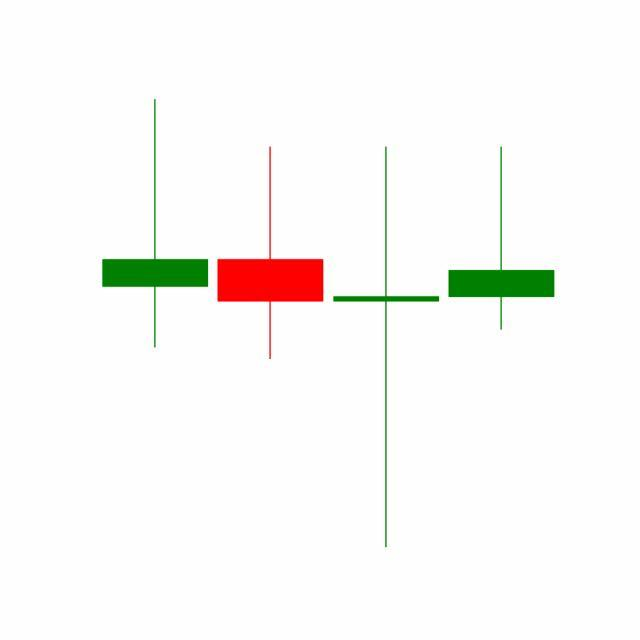Spinning Top: (444, 145, 560, 333)
